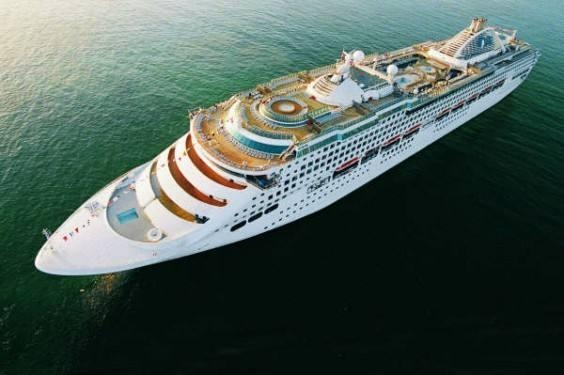youlun: (24, 15, 542, 273)
